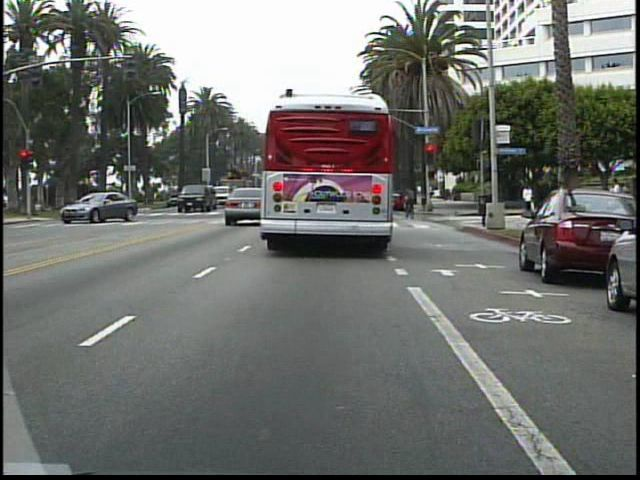person: (608, 175, 626, 223), (519, 181, 538, 218), (401, 182, 421, 217)
